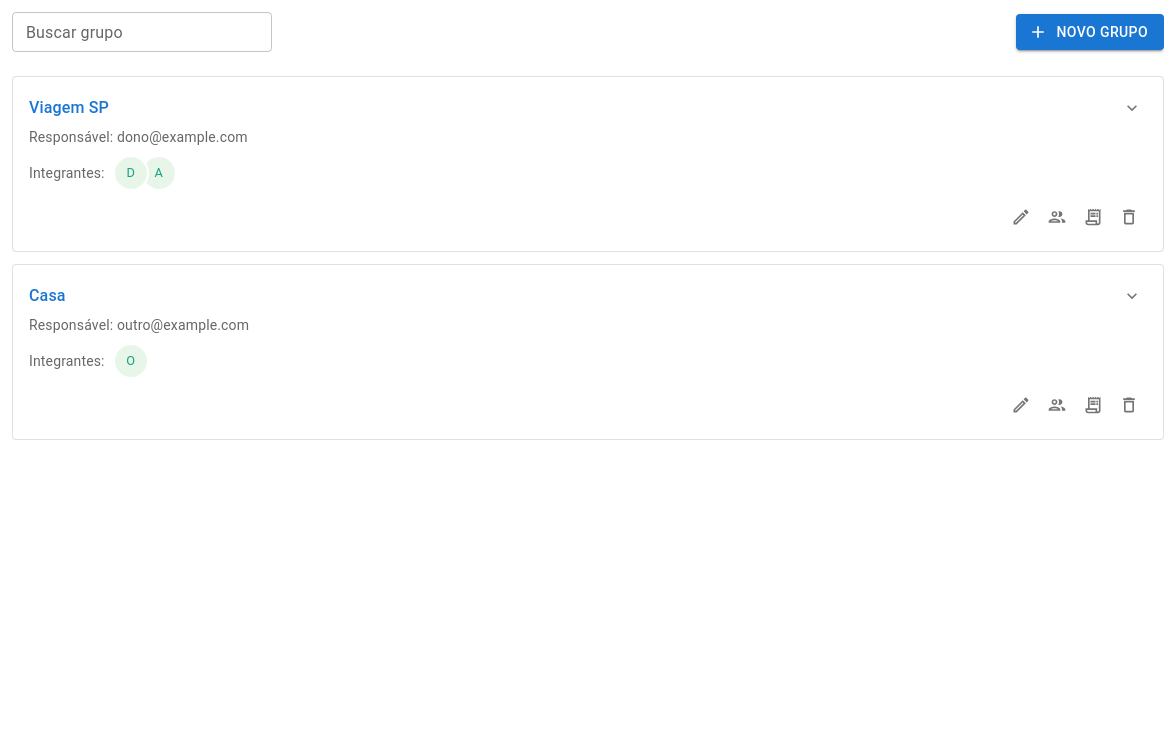
Test: Dashboard (mobile / compact) › expands a card to show the gross debts panel
Expected: the link "Viagem SP" is shown, [29,96,109,120]
Expected: the text "Ana Silva" is not shown
Click the button named "Ver pendências de Viagem SP" at (1132, 108), box [1117,93,1147,123]
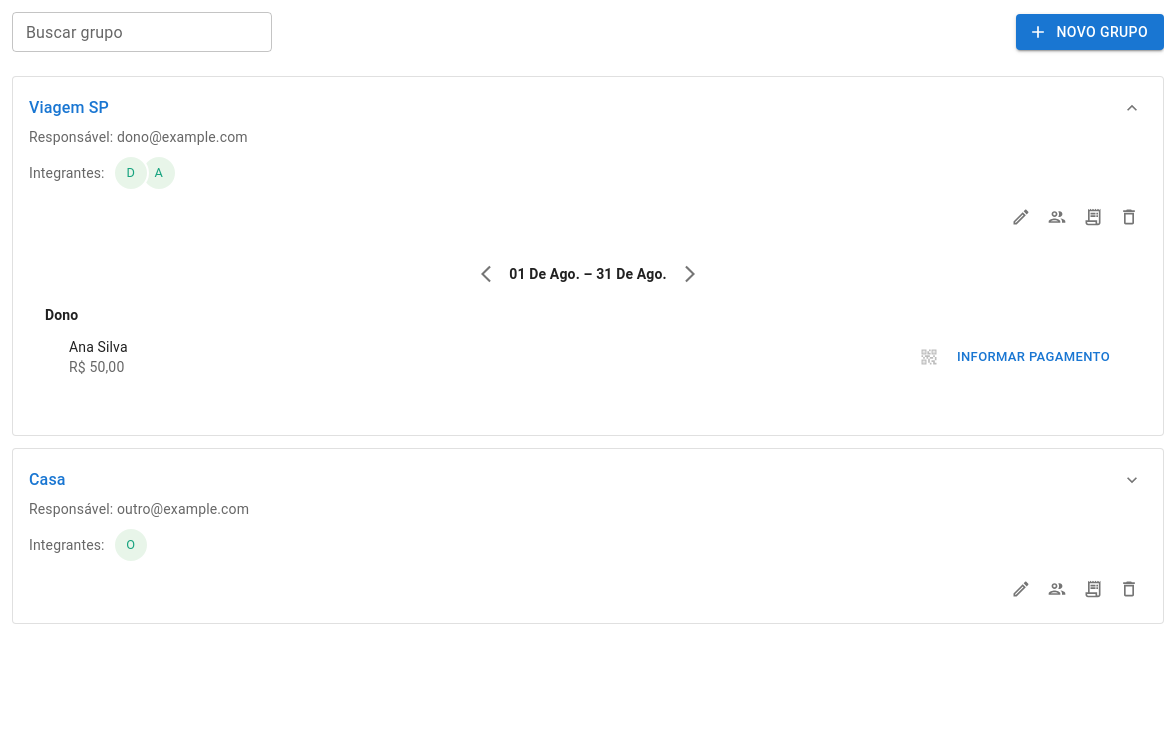
Expected: the text "Ana Silva" is shown, [69,339,128,355]
